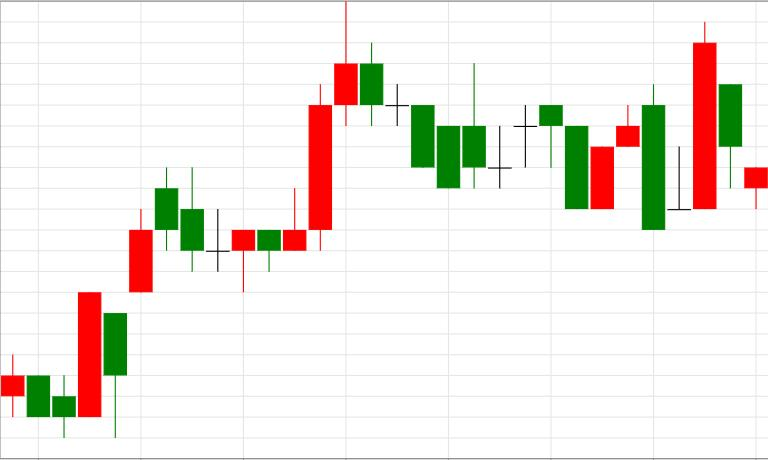inverse_hammer_rise: (360, 41, 486, 189)
shooting_star_fall: (206, 2, 358, 291)
